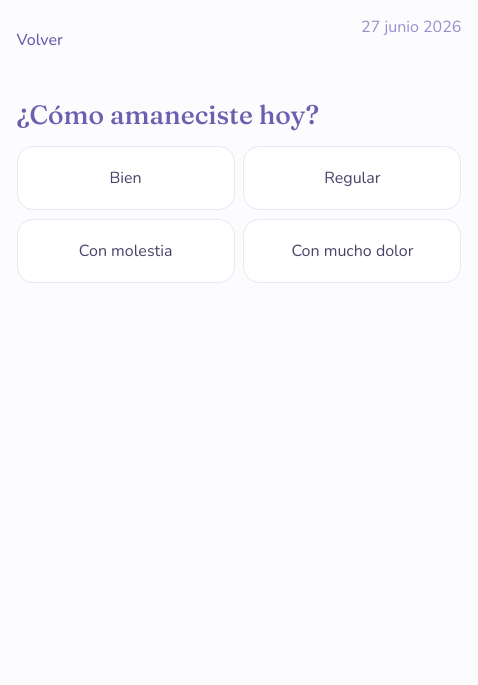
Test: RegistroDiario › elegir "Con molestia" despliega el formulario de detalle
Click the button "Con molestia": (126, 251) 17,219 -> 235,283
(page scrolled)
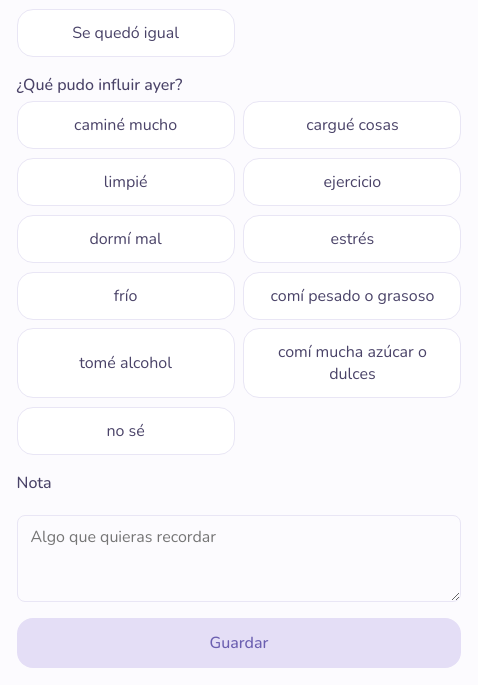
Now the button "Guardar" is shown, box 17,618 -> 461,668
